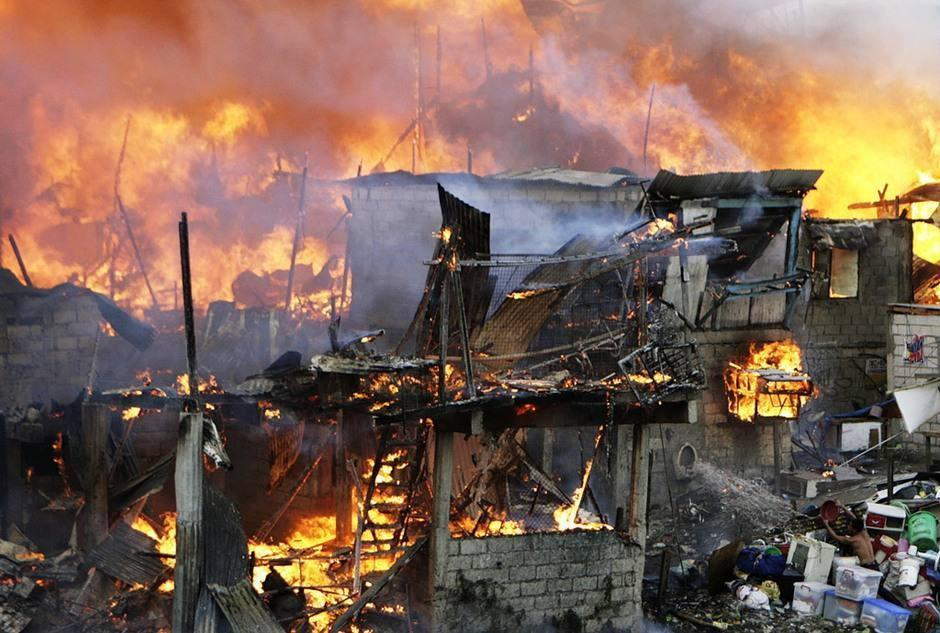fire: (384, 13, 922, 251), (92, 329, 449, 622), (11, 80, 379, 318), (447, 230, 669, 546), (671, 321, 824, 439)
